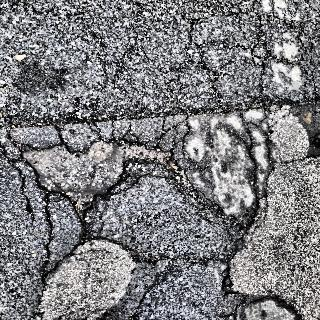alligator-crack: (110, 20, 295, 124), (207, 203, 296, 306)
pothole: (13, 131, 189, 214)
